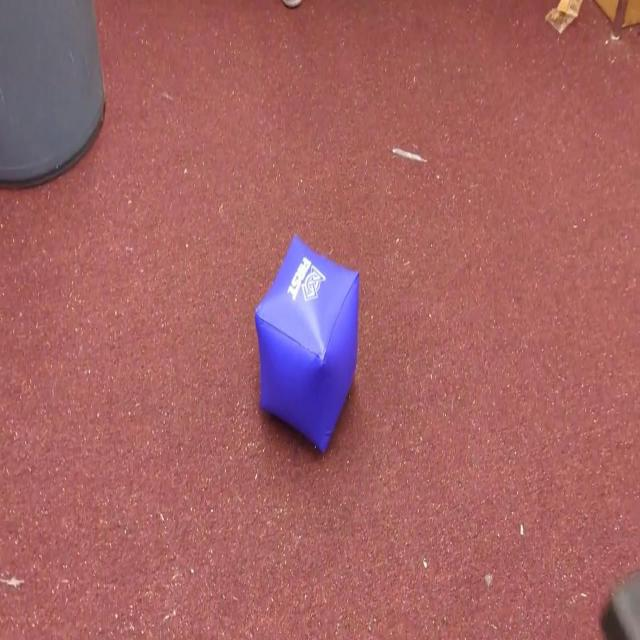frc_cube: (254, 235, 360, 458)
